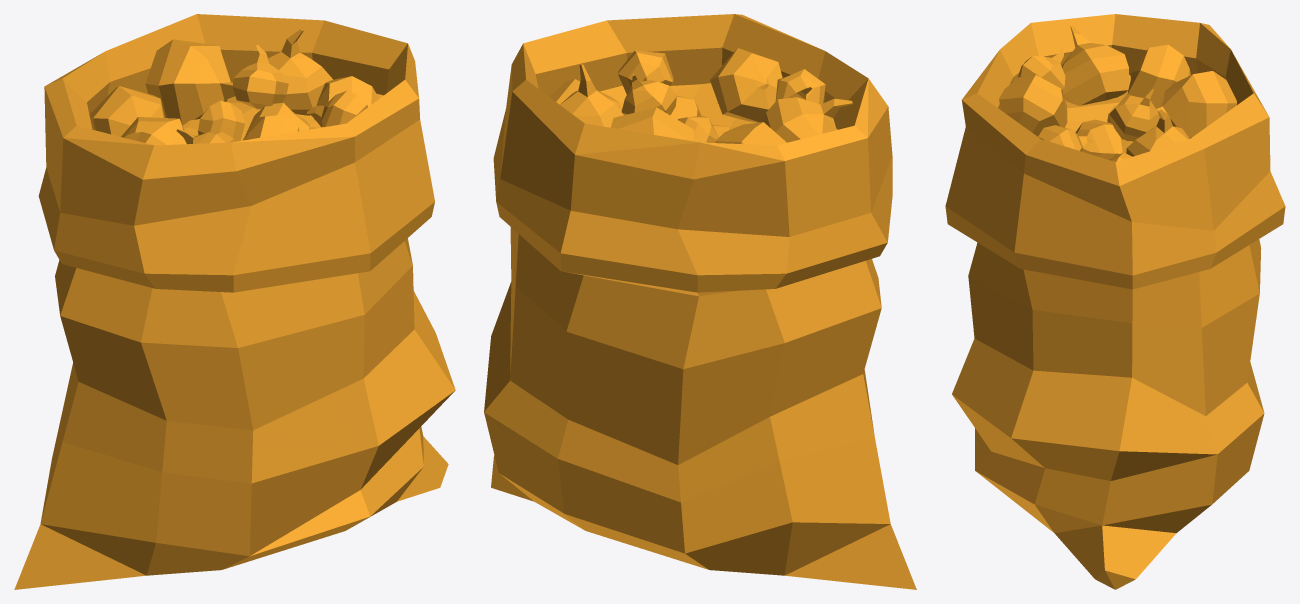
Rendered from SM_Bag_Standing_Open_Onion.fbx.
The picture shows the model from 3 angles, left to right: view 1: azimuth 30°, elevation 25°; view 2: azimuth 150°, elevation 25°; view 3: azimuth 270°, elevation 25°; orthographic projection. The views are drawn at different scales.
Parts seen in each view (by area): view 1: bag-standing-open-onion; view 2: bag-standing-open-onion; view 3: bag-standing-open-onion.
Part boxes in pixels (<box>): bag-standing-open-onion: <box>14,14,455,589</box>; bag-standing-open-onion: <box>484,14,916,589</box>; bag-standing-open-onion: <box>945,14,1285,589</box>.
Size of the model in its own units: 0.6185 by 0.6441 by 0.46.
